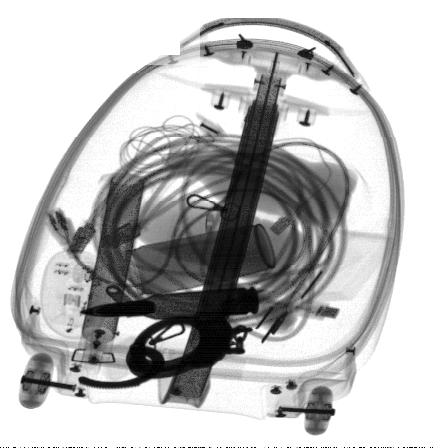Bullet: (79, 287, 258, 322)
HandCuffs: (75, 309, 248, 391)
